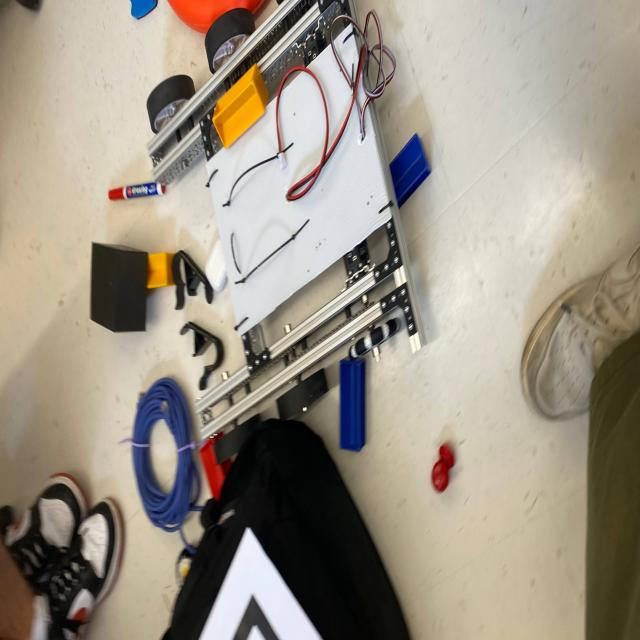blue-specimen: (390, 134, 431, 208), (340, 358, 365, 451)
red-specimen: (199, 432, 232, 500)
yellow-specimen: (212, 63, 268, 148), (147, 253, 175, 290)
